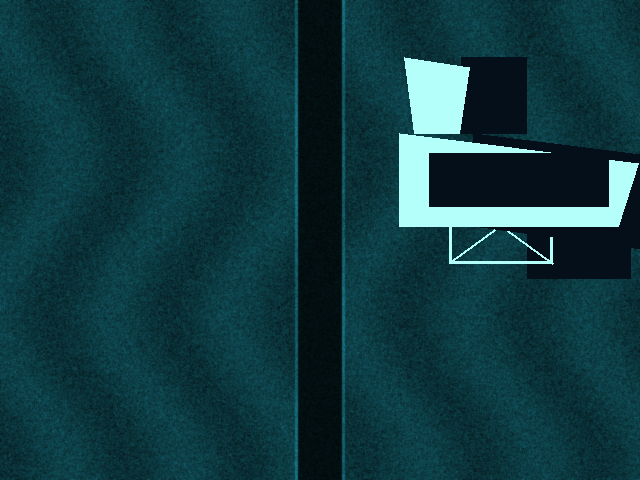Abandoned Equipment: (449, 188, 552, 263)
Other Man-made Debris: (404, 57, 469, 133)
Ship/Boat Debris: (399, 133, 638, 226)
